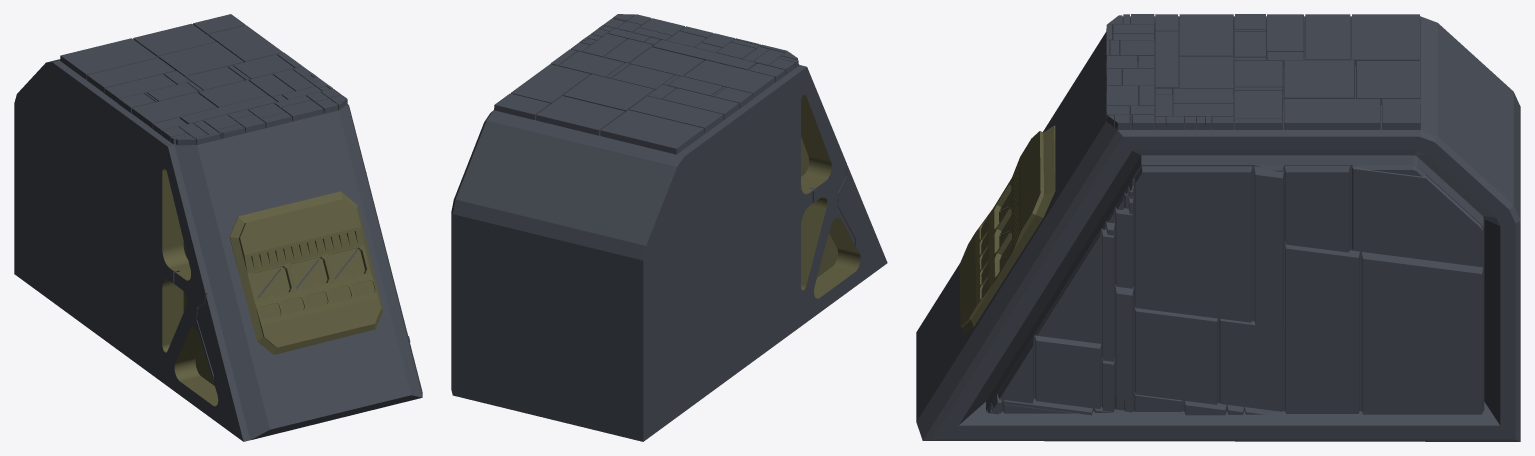
File: 大门基础底层_001.fbx
3 views of the same model, side by side, from view 1: azimuth 30°, elevation 25°; view 2: azimuth 150°, elevation 25°; view 3: azimuth 270°, elevation 25° (orthographic). The views are drawn at different scales.
Parts seen in each view (by area): view 1: 大门基础底层.001; view 2: 大门基础底层.001; view 3: 大门基础底层.001.
Part boxes in pixels (left/top/right/bottom): 大门基础底层.001: left=14, top=14, right=422, bottom=441; 大门基础底层.001: left=451, top=14, right=887, bottom=441; 大门基础底层.001: left=916, top=14, right=1520, bottom=441.
Bounding box in the file's own units: 2.05 × 2.47 × 4.24.
